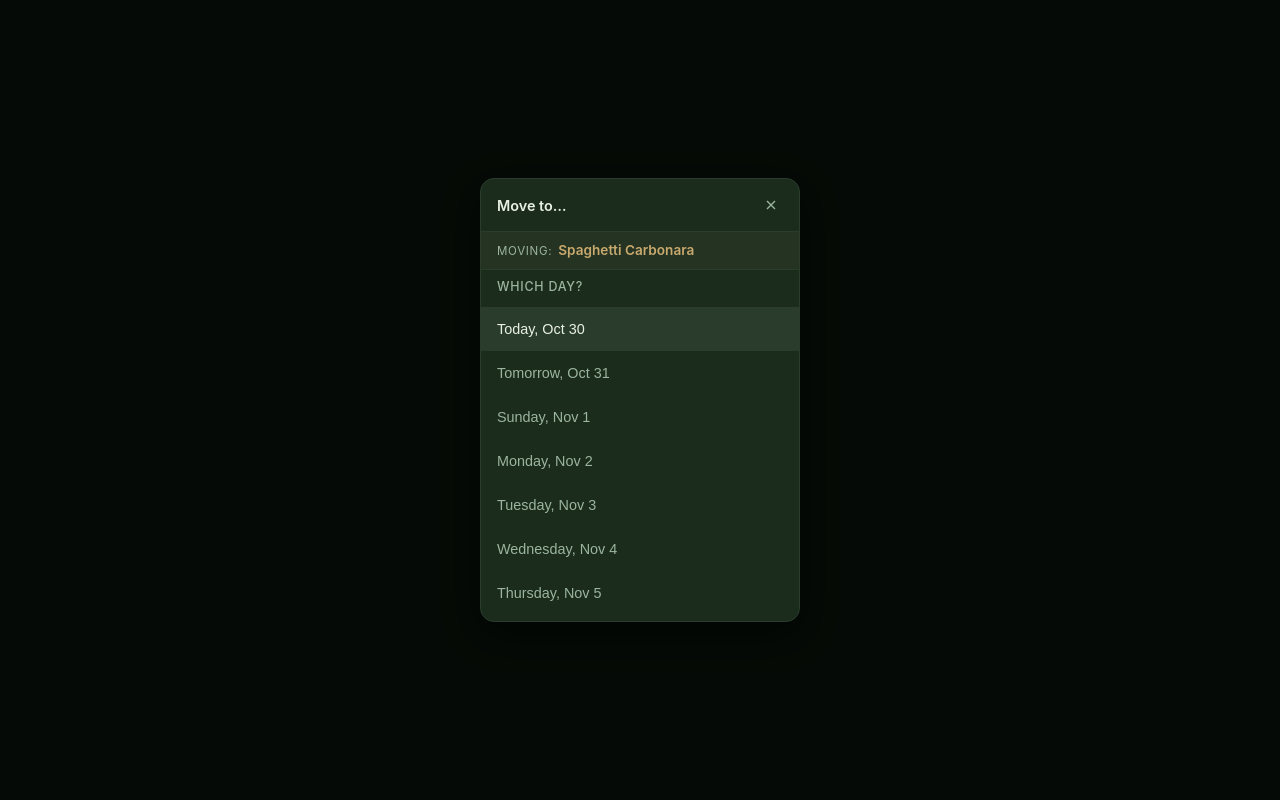
Test case: MoveMealModal — transition to Step 2 › clicking a date shows "Which meal?" prompt
This screenshot has width=1280, height=800.
Click the button with aria-label "Move to Today": click(541, 329) [481,306,799,350]
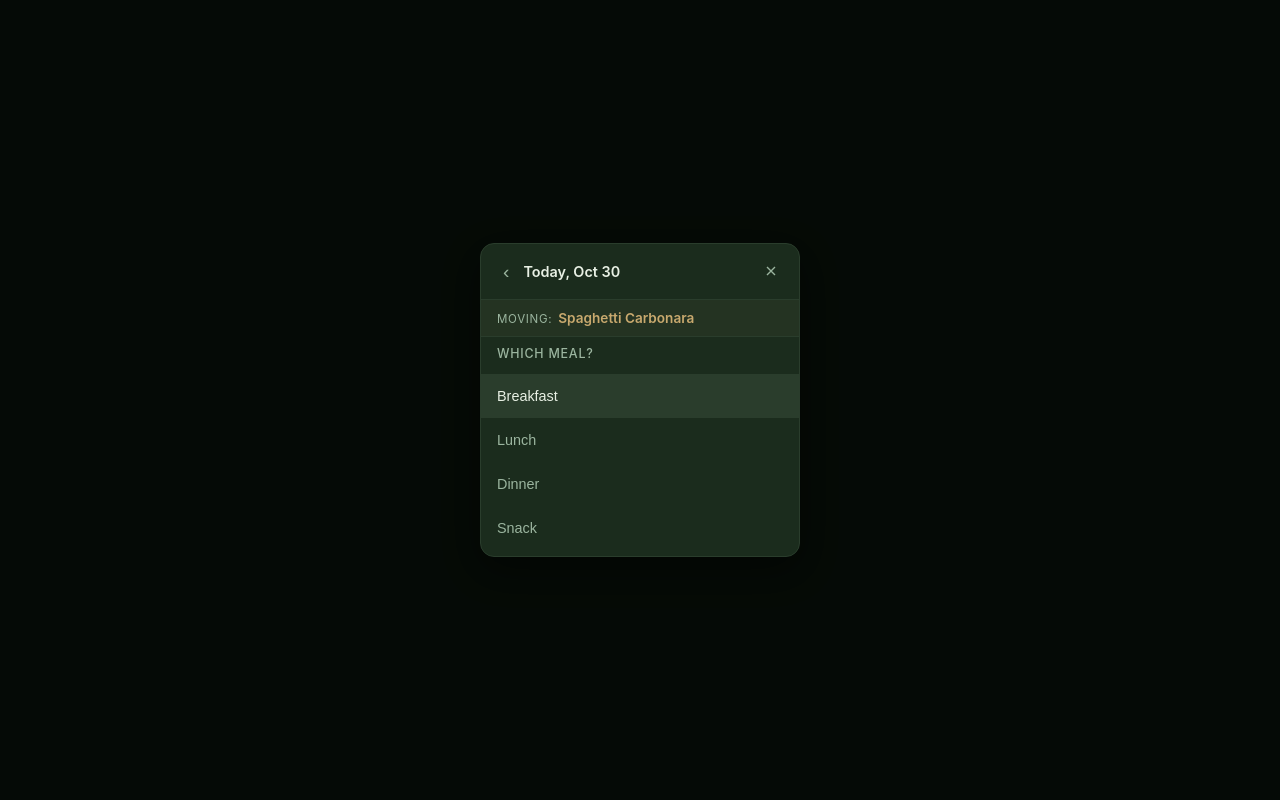
Expected: the text "Which meal?" is shown, [497,346,594,361]
